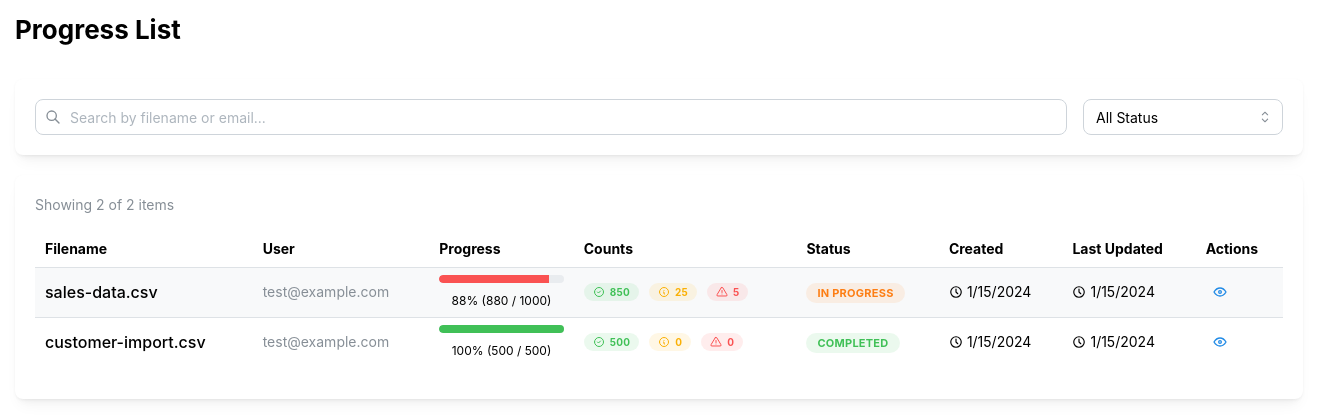
Scenario: ProgressList Component › Search and Filter › filters by search query
Expected: the text "sales-data.csv" is shown, [45,282,158,302]
Expected: the text "customer-import.csv" is shown, [45,332,206,352]
Type "sales" into the field with placeholder "Search by filename or email..." at (551, 117), box [35,99,1067,135]
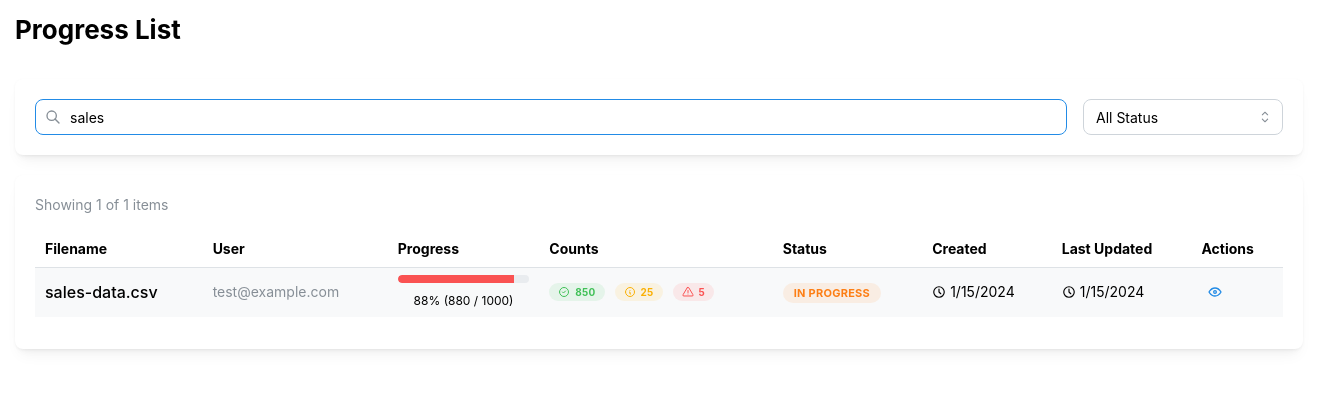
Expected: the text "sales-data.csv" is shown, [45,282,158,302]
Now the text "customer-import.csv" is gone
